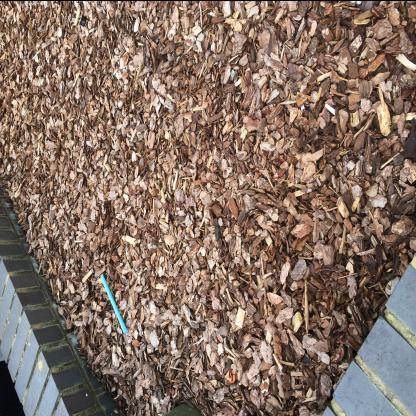plastik: (100, 272, 128, 334)
